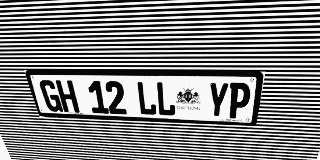1: (86, 81, 109, 114)
2: (104, 81, 127, 114)
G: (38, 80, 63, 112)
H: (55, 80, 80, 113)
L: (136, 81, 157, 115), (156, 82, 176, 116)
P: (227, 83, 252, 119)
Y: (207, 82, 230, 118)
